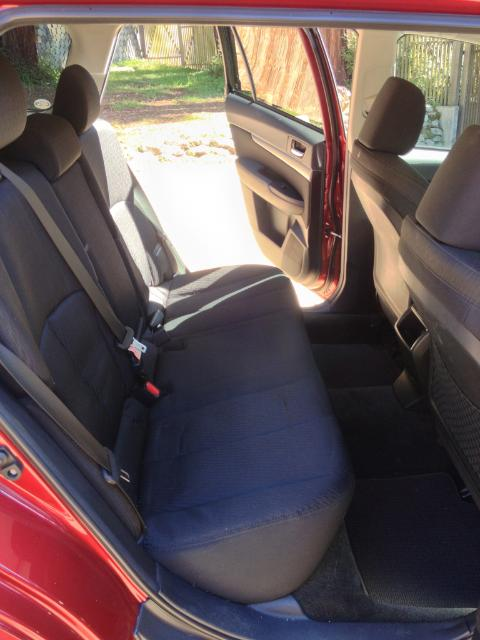Seatbelt: (0, 156, 148, 367), (0, 339, 138, 496)
